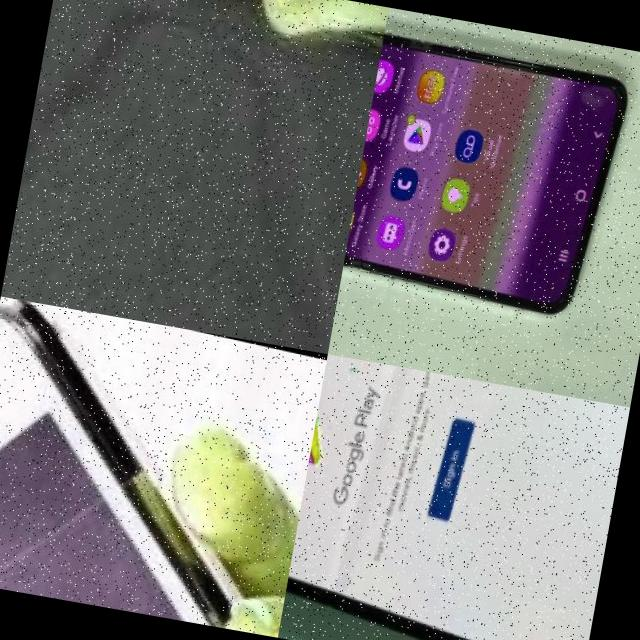dead pixel: (341, 357, 372, 385)
